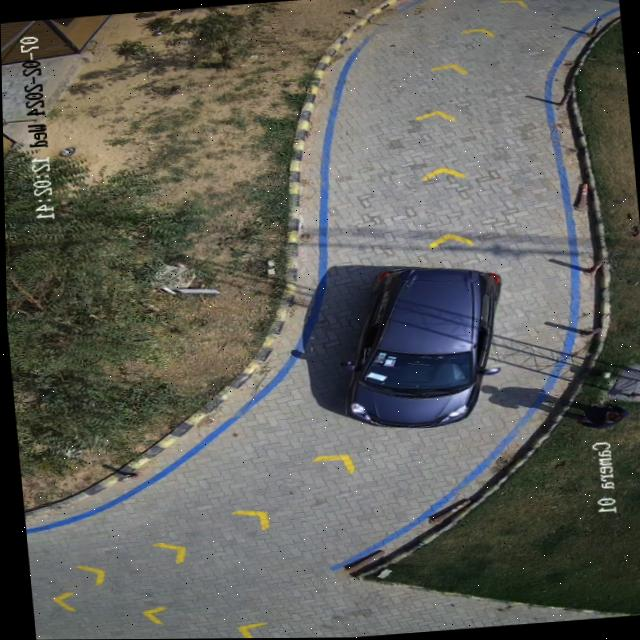car: (345, 267, 498, 427)
